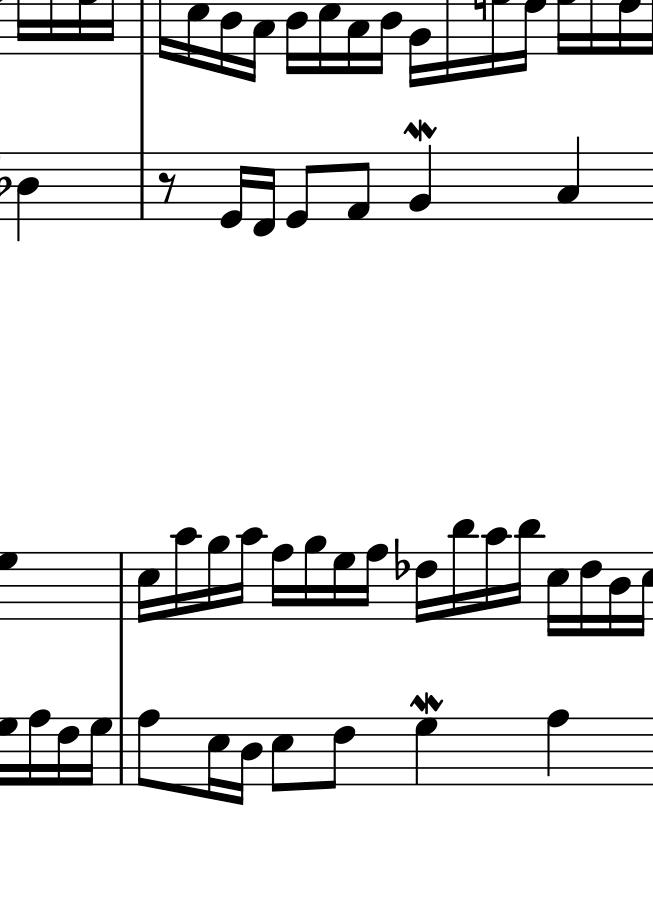16_-1: (251, 149, 277, 238)
16_0: (218, 151, 250, 229)
16_10: (234, 526, 266, 625), (171, 525, 197, 622), (483, 526, 509, 622)
16_11: (512, 519, 544, 623), (450, 519, 476, 622)
16_4: (234, 715, 263, 809), (608, 551, 633, 638)
16_5: (544, 552, 570, 638), (205, 714, 229, 804), (135, 551, 159, 623)
16_6: (577, 549, 604, 639), (56, 716, 81, 788), (414, 549, 437, 624)
16_7: (81, 716, 114, 787), (331, 551, 356, 623)
16_8: (358, 543, 387, 623), (270, 542, 295, 623), (27, 708, 52, 789)
16_9: (204, 536, 230, 623), (303, 532, 328, 622)
4_2: (408, 143, 433, 222)
4_3: (554, 134, 582, 223)
4_4: (15, 150, 41, 241)
4_7: (413, 715, 440, 788)
4_8: (544, 708, 570, 788)
8_0: (284, 149, 319, 228)
8_1: (346, 150, 372, 224)
8_5: (271, 715, 296, 795)
8_6: (322, 716, 357, 792)
8_8: (135, 707, 161, 793)
Flat: (392, 538, 410, 580)
Mordent: (401, 118, 438, 145), (410, 692, 443, 715)
Rests8: (156, 171, 177, 206)
Single_barline: (112, 717, 129, 786), (112, 552, 129, 621), (134, 153, 150, 218), (135, 1, 149, 55)
